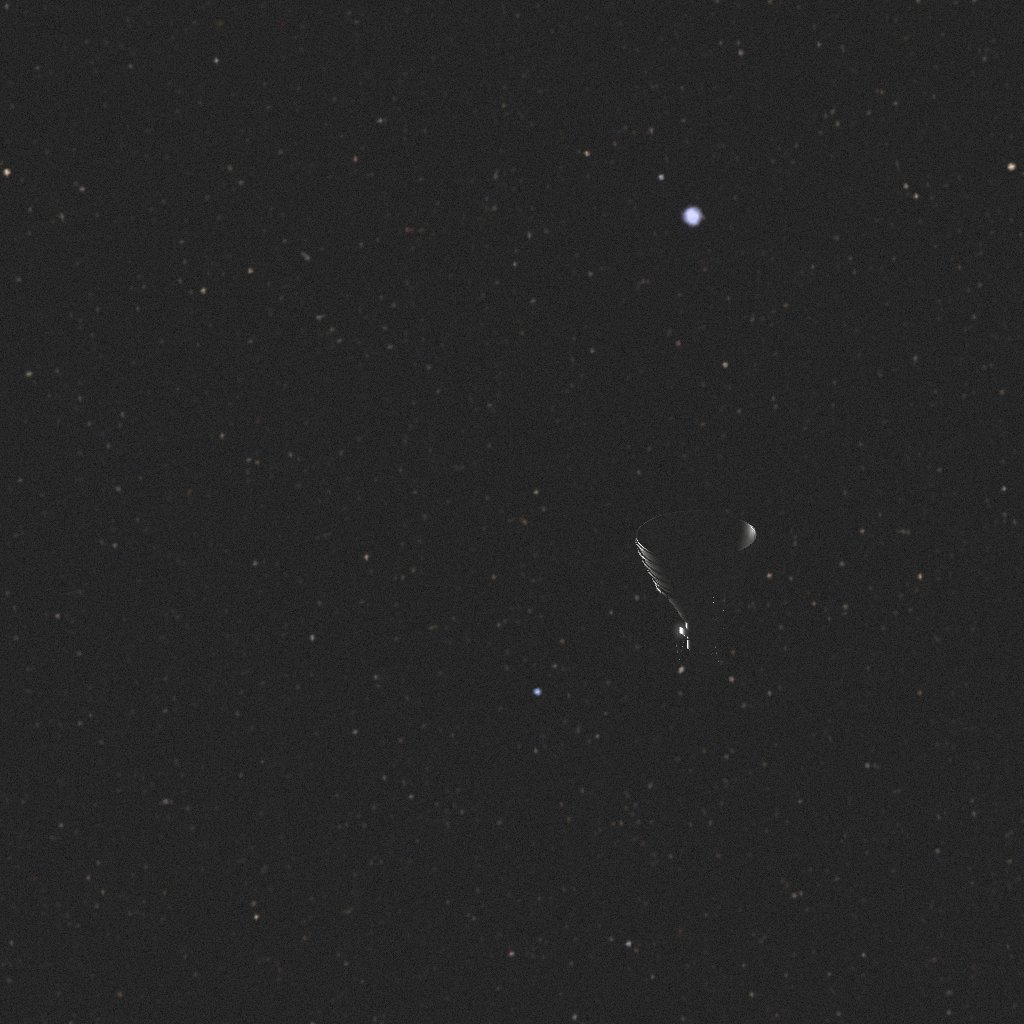debris: (635, 510, 762, 665)
